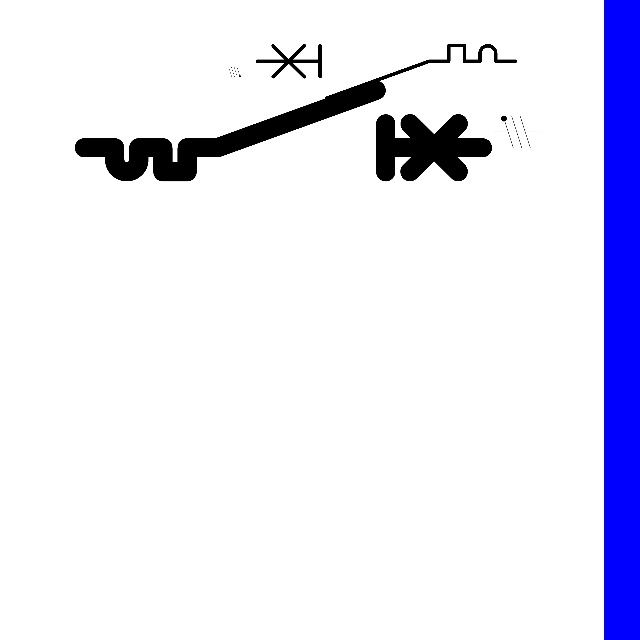interruptor_termomagnetico: (74, 80, 492, 182), (250, 39, 521, 105)
